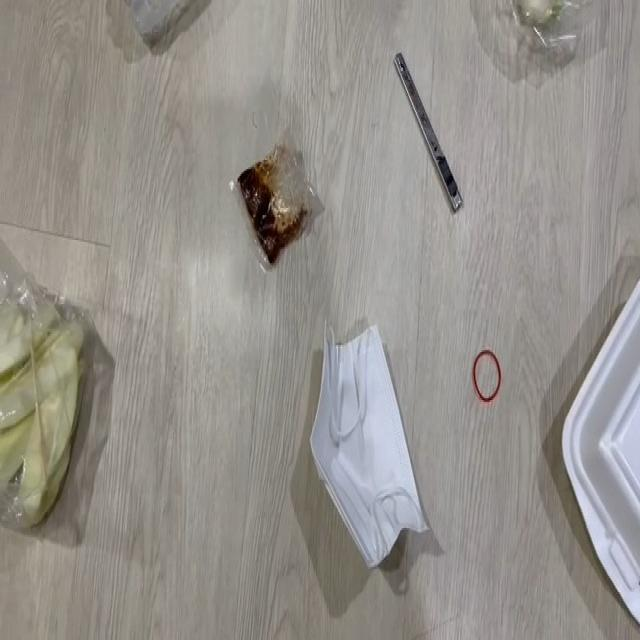Anorganik: (547, 218, 640, 630), (377, 49, 475, 213), (106, 0, 208, 69), (469, 346, 509, 406)
B3: (305, 314, 430, 572), (0, 290, 98, 539), (228, 118, 329, 282)
